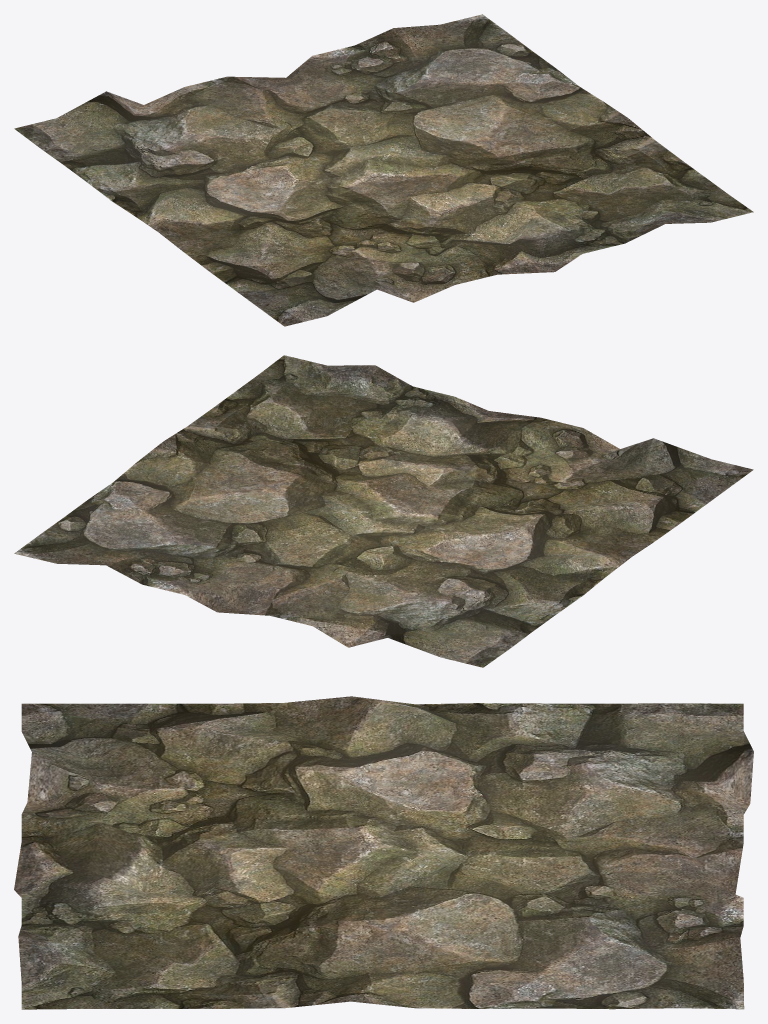
Rendered from Mark.obj.
3 views of the same model, one above another, from view 1: azimuth 30°, elevation 25°; view 2: azimuth 150°, elevation 25°; view 3: azimuth 270°, elevation 25° (orthographic). The views are drawn at different scales.
Parts seen in each view (by area): view 1: Cube.001_Cube.002; view 2: Cube.001_Cube.002; view 3: Cube.001_Cube.002.
Part boxes in pixels (left/top/right/bottom): Cube.001_Cube.002: left=14, top=14, right=753, bottom=326; Cube.001_Cube.002: left=14, top=355, right=753, bottom=667; Cube.001_Cube.002: left=14, top=696, right=753, bottom=1009.
Size of the model in its own units: 2.01 by 0.0961 by 2.05.
